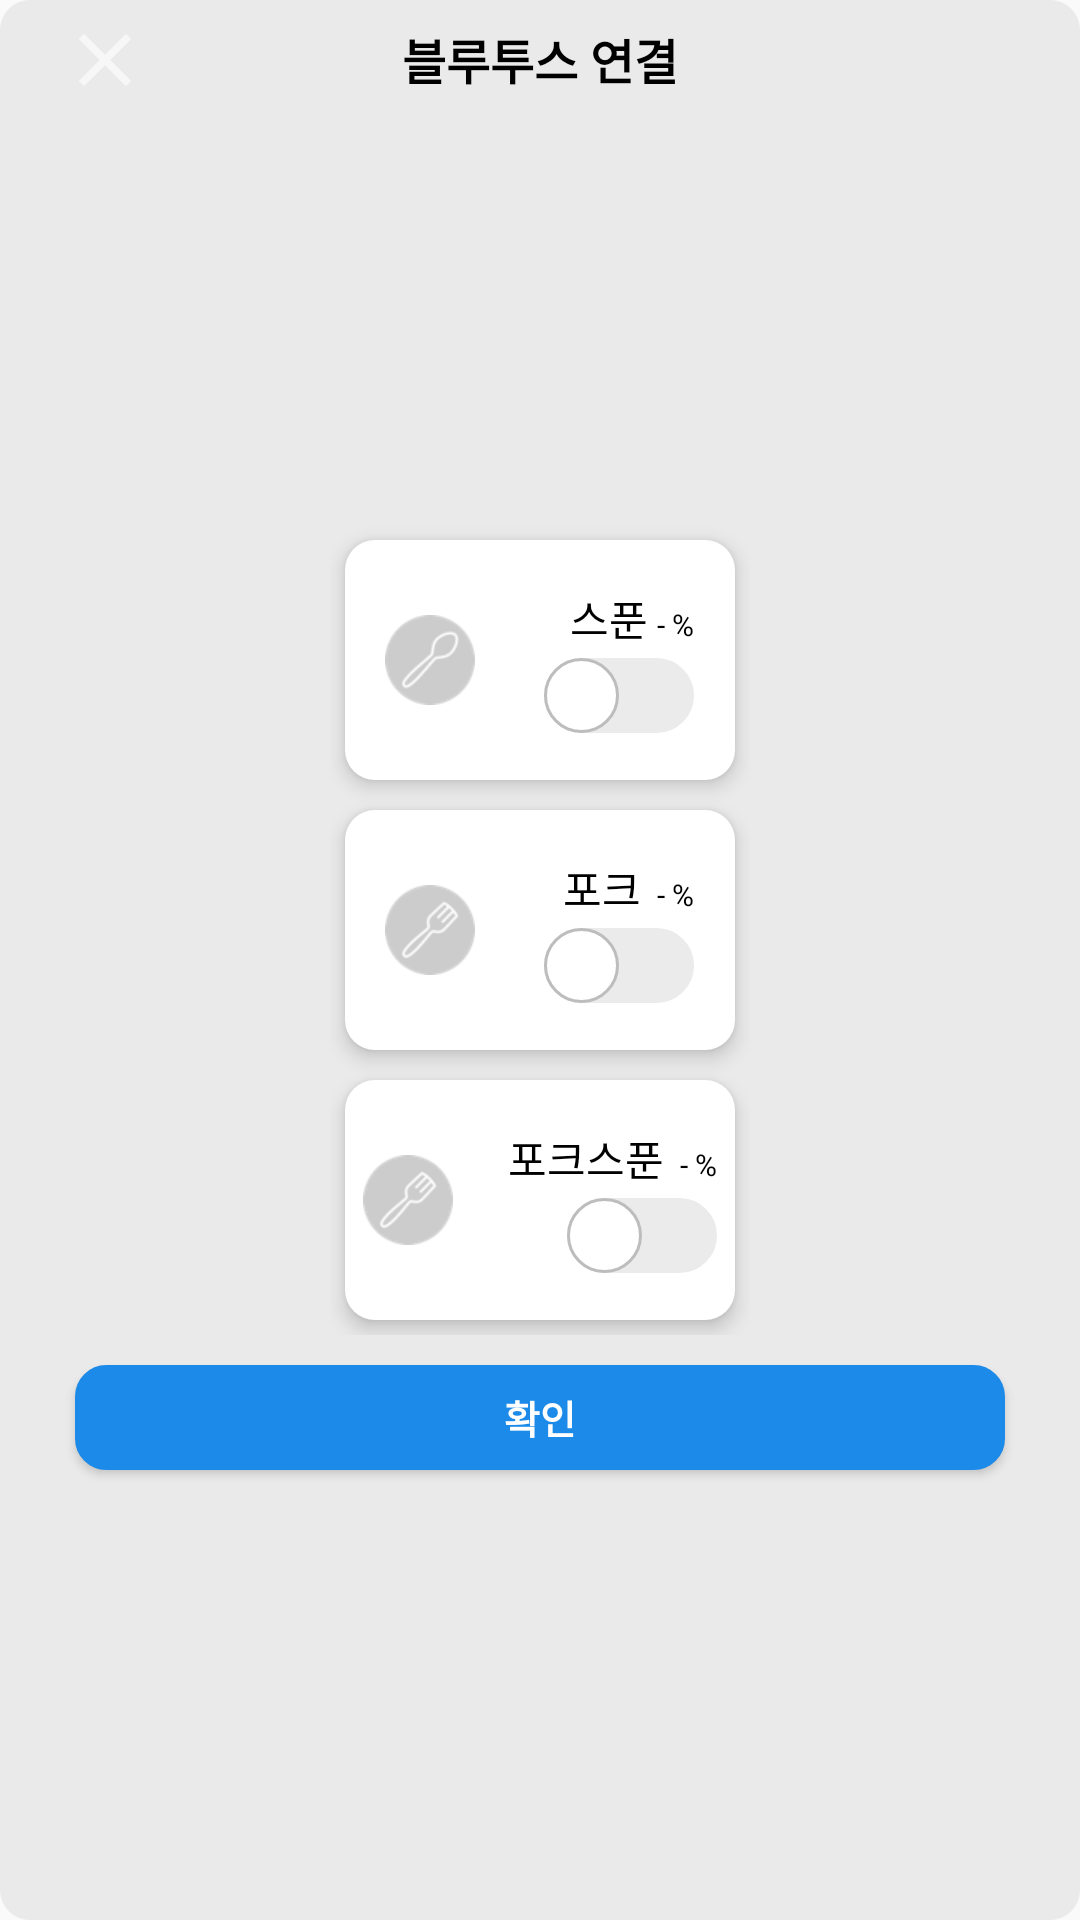

Named icons in this screenshot (1080x1920) and their bounding boxes, box=[x1, y1, x2, y2]:
fork: box=[385, 885, 475, 975], box=[363, 1155, 453, 1245]
spoon: box=[385, 615, 475, 705]
